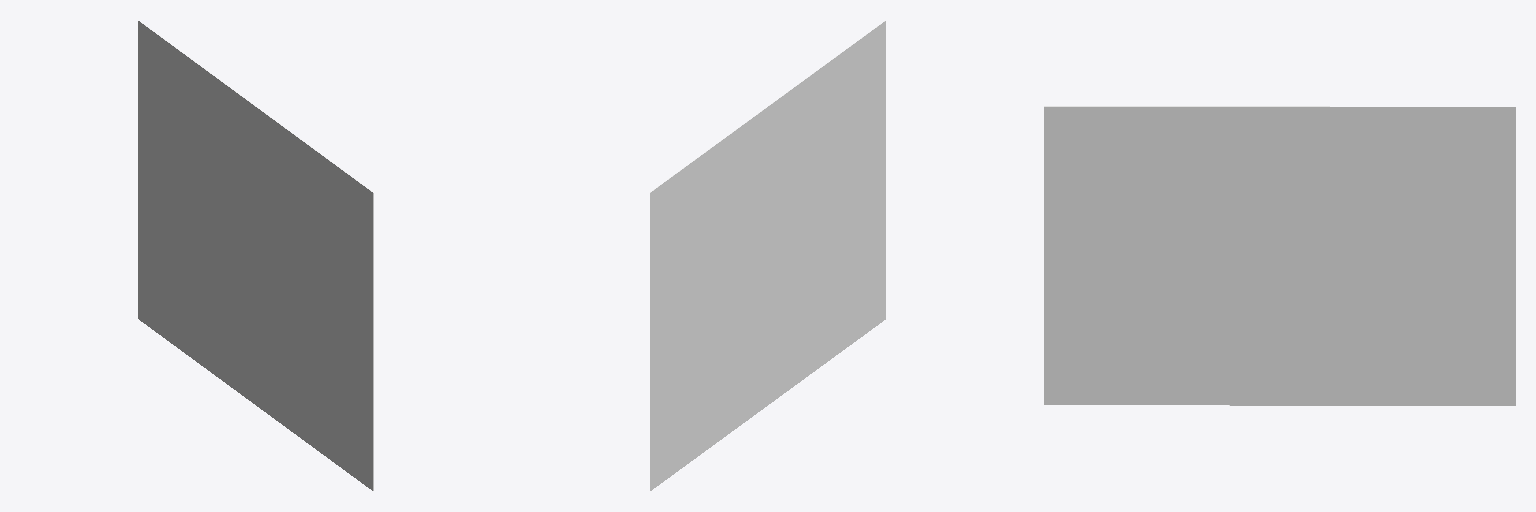
The robot description file, URDF, robot "planar_robo_arm":
<robot name = "planar_robo_arm">
    
  <material name="blue">
    <color rgba="0 0 0.8 1"/>
  </material>
  <material name="black">
    <color rgba="0 0 0 1"/>
  </material>
  <material name="white">
    <color rgba="1 1 1 1"/>
  </material>


 <link name ="link_1">
    <visual>
      <geometry>
        <box size="1 0.001 0.7"/>
      </geometry>
      <origin rpy ="0 0 1.57" xyz ="0.4 0 0"/>
      <material name ="white"/>
    </visual>
 </link>
       

</robot>

--- Facts derived from the render (not from the file) ---
3 views of the same robot in one strip: view 1: azimuth 30°, elevation 25°; view 2: azimuth 150°, elevation 25°; view 3: azimuth 270°, elevation 25° (orthographic).
Robot: planar_robo_arm — 1 links, 0 joints (none); root link link_1; default pose: every joint at zero.
Visible links, largest first — view 1: link_1; view 2: link_1; view 3: link_1.
Boxes of the visible links, left/top/right/bottom form: link_1: left=138, top=21, right=373, bottom=490; link_1: left=650, top=21, right=885, bottom=490; link_1: left=1044, top=106, right=1515, bottom=405.
Size in the robot's own frame: 0.0018 by 1 by 0.7 metres.
Geometry: primitives only (box / cylinder / sphere), no mesh files.